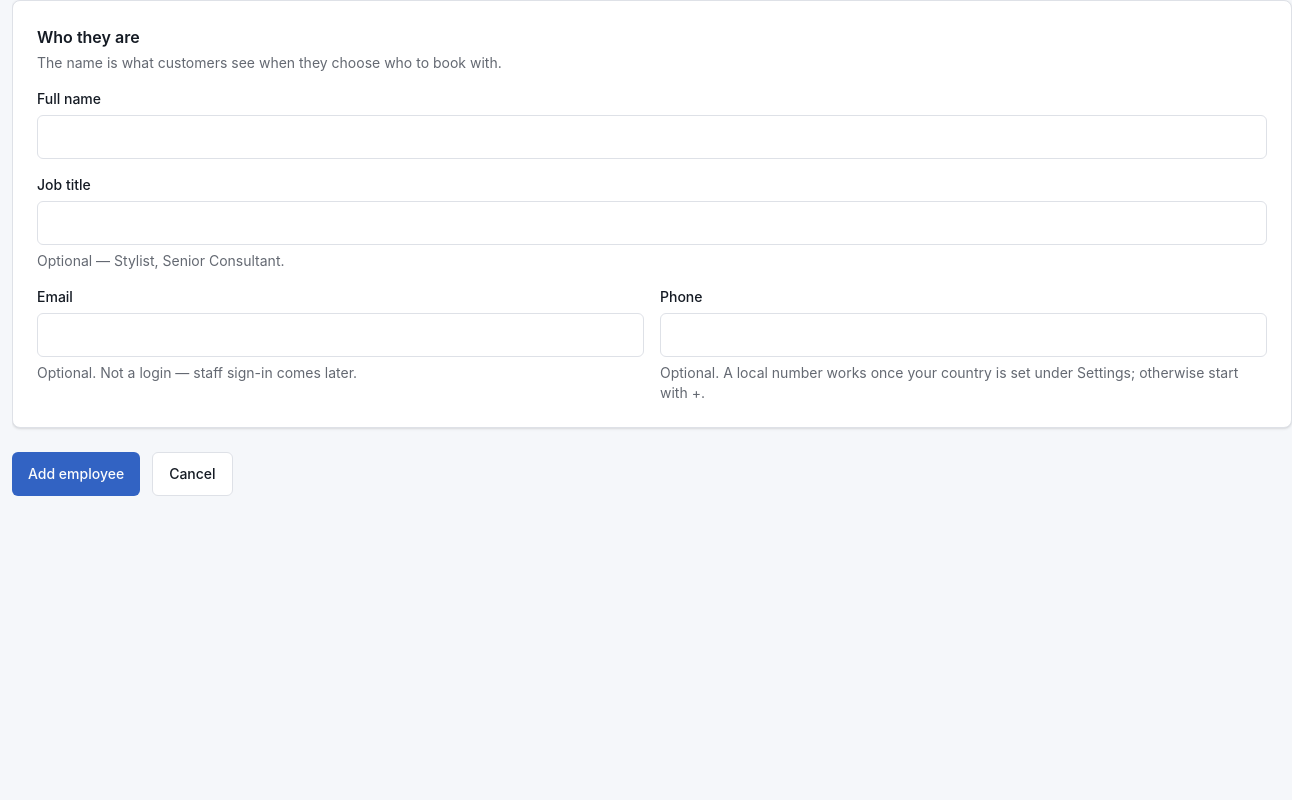
it: EmployeeForm, refused › banners a message for a field this form does not hold
Type "Nino Beridze" into the field labelled "Full name". click: (652, 137)
box: [37,115,1267,159]
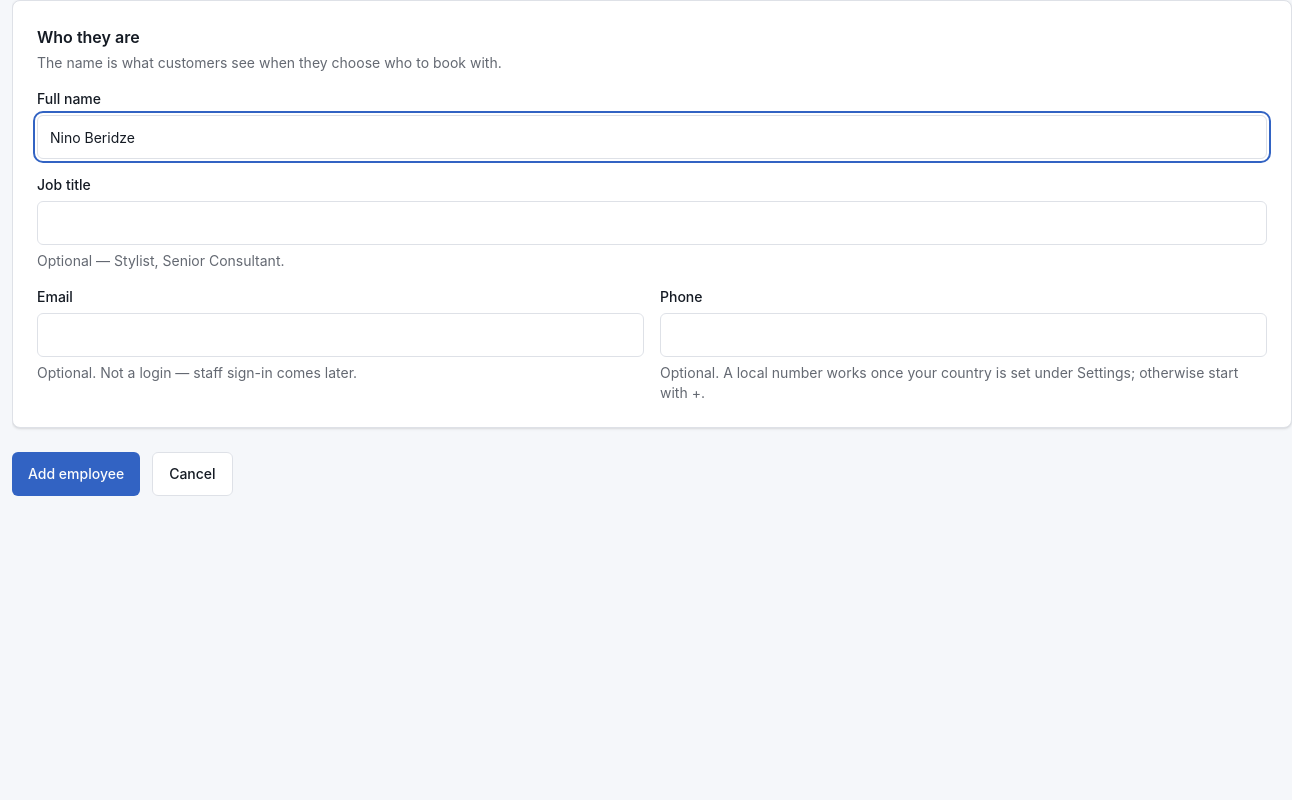
Click the button "Add employee". click: (76, 474)
box: [12,452,140,496]
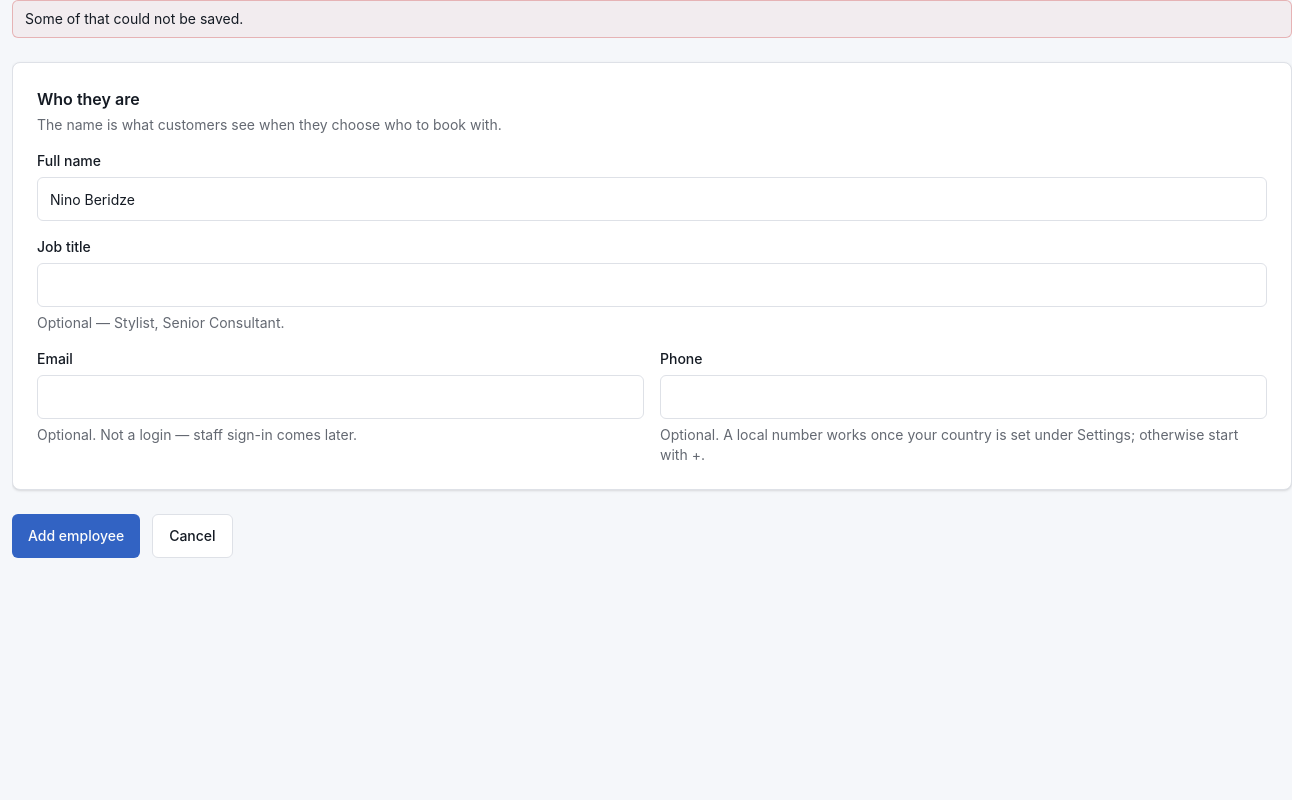
expect the message reads "Some of that could not be saved.": met, box [25,10,243,27]
